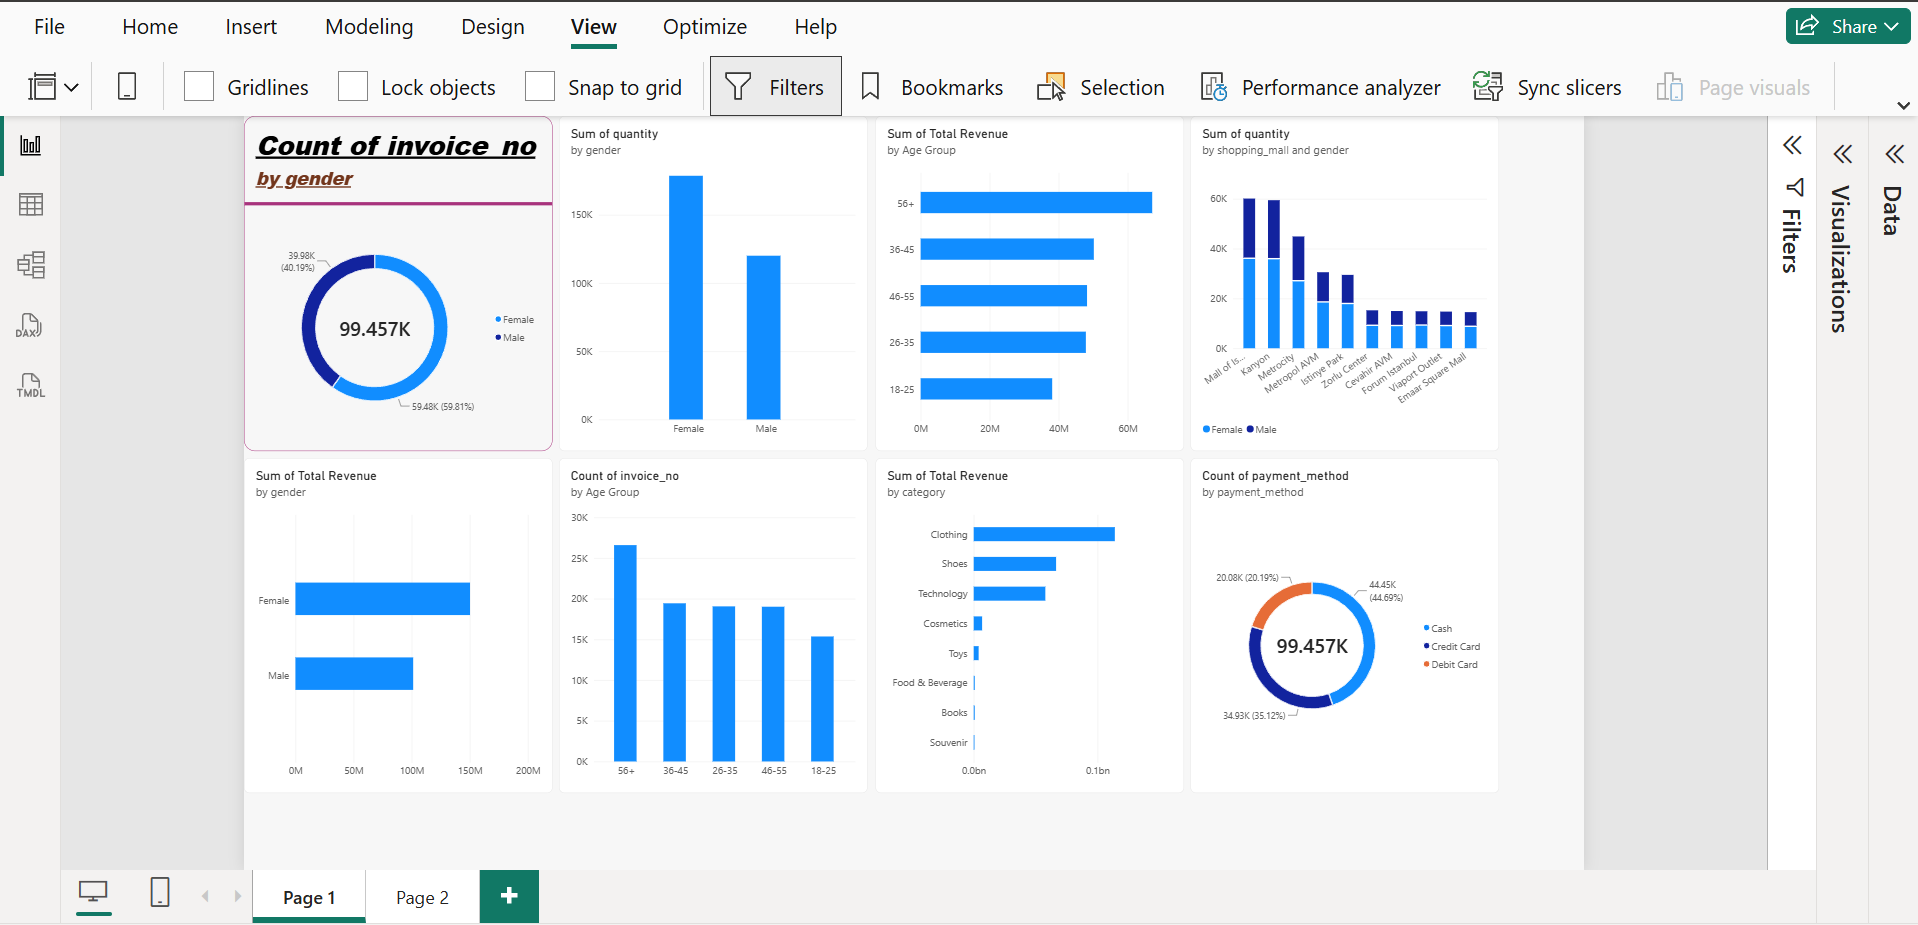

Layout of this report page (visuals, bound fields, positions):
{"tool":"powerbi","page":{"name":"Page 1","canvas":[1920,1080],"ordinal":0},"visuals":[{"type":"donutChart","fields":{"Category":["project_customer_segmentation customer.gender"],"Y":["CountNonNull(project_customer_segmentation customer.invoice_no)"]},"box":[0,0,442,480],"z":0},{"type":"clusteredBarChart","fields":{"Category":["project_customer_segmentation customer.gender"],"Y":["Sum(project_customer_segmentation customer.Total Revenue)"]},"box":[0,490,442,480],"z":1000},{"type":"clusteredColumnChart","fields":{"Category":["project_customer_segmentation customer.gender"],"Y":["Sum(project_customer_segmentation customer.quantity)"]},"box":[452,0,442,480],"z":2000},{"type":"clusteredColumnChart","fields":{"Category":["project_customer_segmentation customer.Age Group"],"Y":["CountNonNull(project_customer_segmentation customer.invoice_no)"]},"box":[452,490,442,480],"z":3000},{"type":"clusteredBarChart","fields":{"Category":["project_customer_segmentation customer.Age Group"],"Y":["Sum(project_customer_segmentation customer.Total Revenue)"]},"box":[904,0,442,480],"z":4000},{"type":"clusteredBarChart","fields":{"Category":["project_customer_segmentation customer.category"],"Y":["Sum(project_customer_segmentation customer.Total Revenue)"]},"box":[904,490,442,480],"z":5000},{"type":"lineStackedColumnComboChart","fields":{"Category":["project_customer_segmentation customer.shopping_mall"],"Series":["project_customer_segmentation customer.gender"],"Y":["Sum(project_customer_segmentation customer.quantity)"]},"box":[1356,0,442,480],"z":5001},{"type":"donutChart","fields":{"Category":["project_customer_segmentation customer.payment_method"],"Y":["CountNonNull(project_customer_segmentation customer.payment_method)"]},"box":[1356,490,442,480],"z":5002}]}

Visuals, with their boxes on the page's 1920x1080 design canvas (x1, y1, x2, y2). These are canvas units, not pixel positions in the 1918x925 screenshot, which may show the page scaled, cropped or inside an application window:
donutChart - project_customer_segmentation customer.gender x CountNonNull(project_customer_segmentation customer.invoice_no): 0,0,442,480
clusteredBarChart - project_customer_segmentation customer.gender x Sum(project_customer_segmentation customer.Total Revenue): 0,490,442,970
clusteredColumnChart - project_customer_segmentation customer.gender x Sum(project_customer_segmentation customer.quantity): 452,0,894,480
clusteredColumnChart - project_customer_segmentation customer.Age Group x CountNonNull(project_customer_segmentation customer.invoice_no): 452,490,894,970
clusteredBarChart - project_customer_segmentation customer.Age Group x Sum(project_customer_segmentation customer.Total Revenue): 904,0,1346,480
clusteredBarChart - project_customer_segmentation customer.category x Sum(project_customer_segmentation customer.Total Revenue): 904,490,1346,970
lineStackedColumnComboChart - project_customer_segmentation customer.shopping_mall x project_customer_segmentation customer.gender: 1356,0,1798,480
donutChart - project_customer_segmentation customer.payment_method x CountNonNull(project_customer_segmentation customer.payment_method): 1356,490,1798,970
